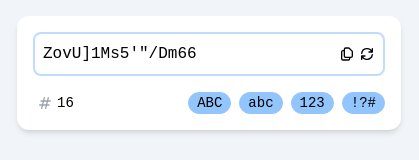
Scenario: Application tests › displays an error if none of the modifier buttons are toggled on
This screenshot has width=419, height=160.
Click the element with test id "uppercase".
click(210, 103)  # box [188, 92, 231, 114]
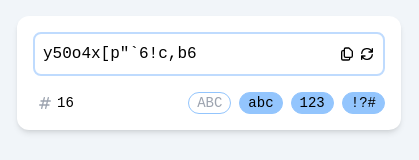
Click the element with test id "lowercase".
click(261, 103)  # box [239, 92, 282, 114]
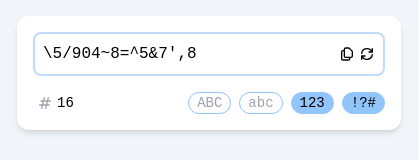
Click the element with test id "numeric".
click(313, 103)  # box [291, 92, 334, 114]
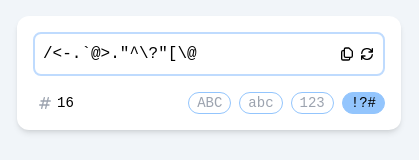
Click the element with test id "symbolic".
click(364, 103)  # box [342, 92, 385, 114]
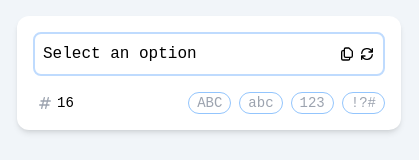
Expected: the text with test id "generated-password" reads "Select an option", [43, 45, 197, 63]
